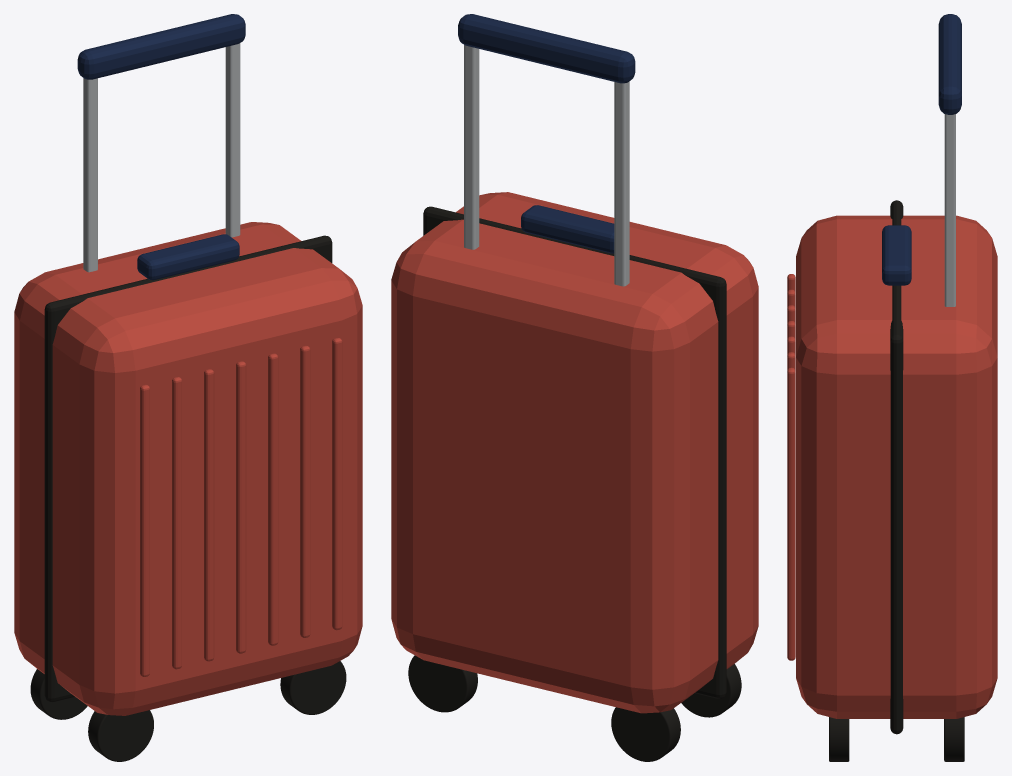
The model's file is 04_luggage.glb.
The picture shows the model from 3 angles, left to right: view 1: azimuth 30°, elevation 25°; view 2: azimuth 150°, elevation 25°; view 3: azimuth 270°, elevation 25°; orthographic projection. The views are drawn at different scales.
Parts seen in each view (by area): view 1: Suitcase_Shell, Suitcase_Zip_Band, Handle_Grip, Suitcase_Rib.004, Suitcase_Rib.003, Suitcase_Rib.002, Suitcase_Rib.005, Suitcase_Rib.006, Handle_Rail.001, Suitcase_Rib.001, Suitcase_Rib, Handle_Rail (+4 smaller); view 2: Suitcase_Shell, Suitcase_Zip_Band, Handle_Grip, Handle_Rail, Handle_Rail.001, Suitcase_Wheel.001, Suitcase_Carry_Handle, Suitcase_Wheel.003, Suitcase_Wheel; view 3: Suitcase_Shell, Suitcase_Zip_Band, Suitcase_Rib.006, Handle_Grip, Handle_Rail.001, Suitcase_Carry_Handle, Suitcase_Wheel.003, Suitcase_Wheel.002.
Boxes of the visible parts, left/top/right/bottom form: Suitcase_Shell: left=14, top=222, right=362, bottom=715; Suitcase_Zip_Band: left=44, top=235, right=332, bottom=701; Handle_Grip: left=77, top=14, right=245, bottom=79; Suitcase_Rib.004: left=268, top=353, right=278, bottom=645; Suitcase_Rib.003: left=236, top=361, right=246, bottom=653; Suitcase_Rib.002: left=204, top=369, right=214, bottom=661; Suitcase_Rib.005: left=300, top=345, right=310, bottom=637; Suitcase_Rib.006: left=332, top=338, right=342, bottom=630; Handle_Rail.001: left=225, top=43, right=240, bottom=237; Suitcase_Rib.001: left=172, top=377, right=181, bottom=669; Suitcase_Rib: left=140, top=384, right=149, bottom=676; Handle_Rail: left=83, top=78, right=97, bottom=272; Suitcase_Shell: left=391, top=192, right=758, bottom=713; Suitcase_Zip_Band: left=423, top=206, right=726, bottom=698; Handle_Grip: left=458, top=14, right=635, bottom=83; Handle_Rail: left=614, top=81, right=629, bottom=286; Handle_Rail.001: left=464, top=45, right=479, bottom=249; Suitcase_Wheel.001: left=611, top=707, right=680, bottom=761; Suitcase_Carry_Handle: left=521, top=205, right=614, bottom=253; Suitcase_Wheel.003: left=408, top=655, right=477, bottom=712; Suitcase_Wheel: left=681, top=664, right=741, bottom=717; Suitcase_Shell: left=796, top=215, right=997, bottom=718; Suitcase_Zip_Band: left=890, top=200, right=903, bottom=734; Suitcase_Rib.006: left=787, top=367, right=795, bottom=660; Handle_Grip: left=938, top=14, right=961, bottom=114; Handle_Rail.001: left=944, top=114, right=955, bottom=306; Suitcase_Carry_Handle: left=882, top=225, right=911, bottom=285; Suitcase_Wheel.003: left=944, top=717, right=964, bottom=761; Suitcase_Wheel.002: left=829, top=717, right=849, bottom=761.
Bounding box in the file's own units: 0.401 × 0.8865 × 0.2555.
